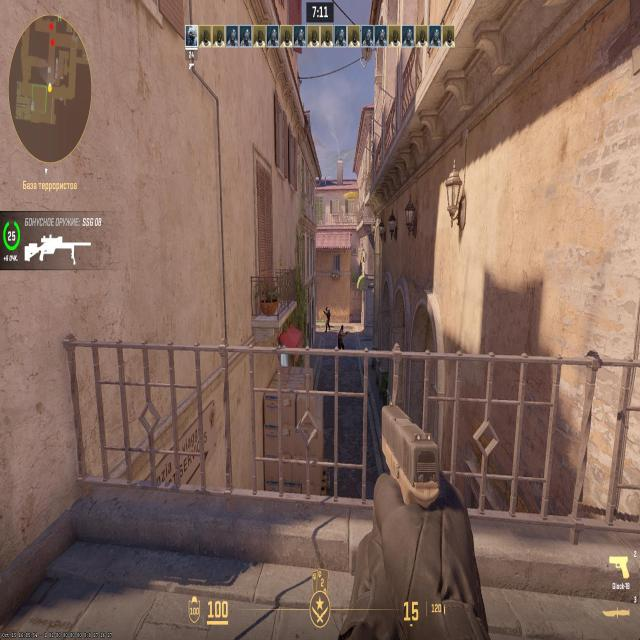CT: (325, 309, 331, 328)
CT_heat: (327, 308, 329, 314)
T: (340, 325, 344, 347)
T_heat: (342, 328, 344, 331)
